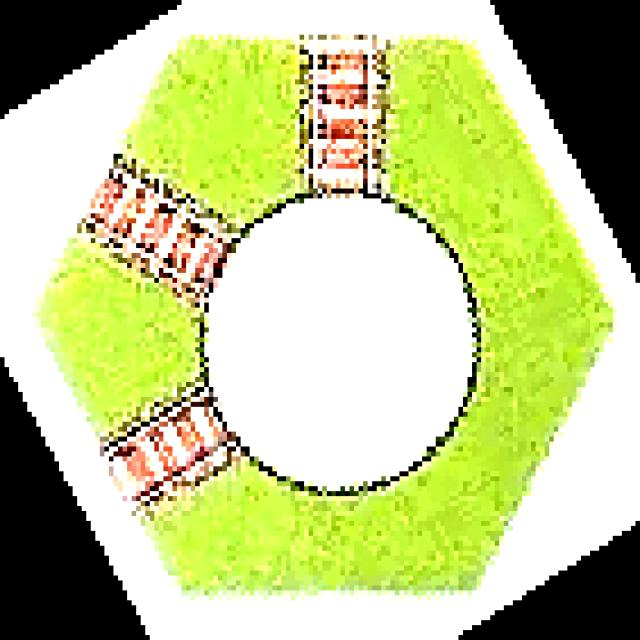12_5: (44, 33, 615, 594)
